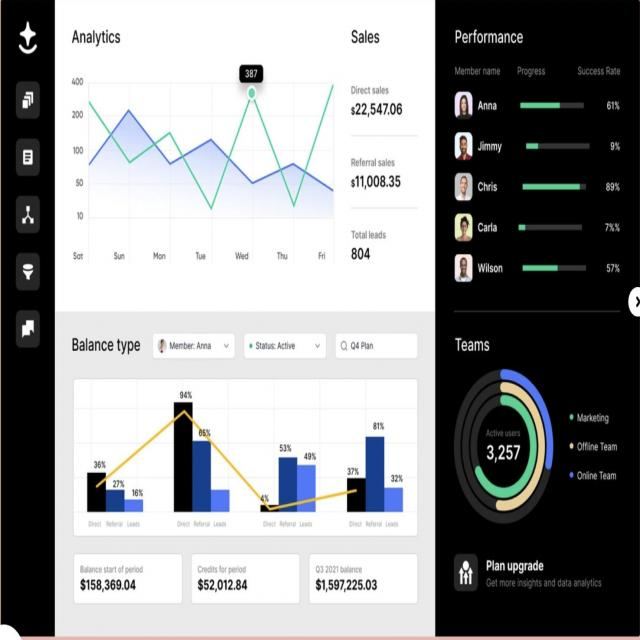button: (16, 83, 42, 117), (17, 140, 41, 176), (17, 253, 40, 290), (16, 196, 40, 231), (17, 310, 40, 345)
input: (336, 332, 418, 360)
select: (244, 333, 327, 360), (152, 333, 235, 359)
